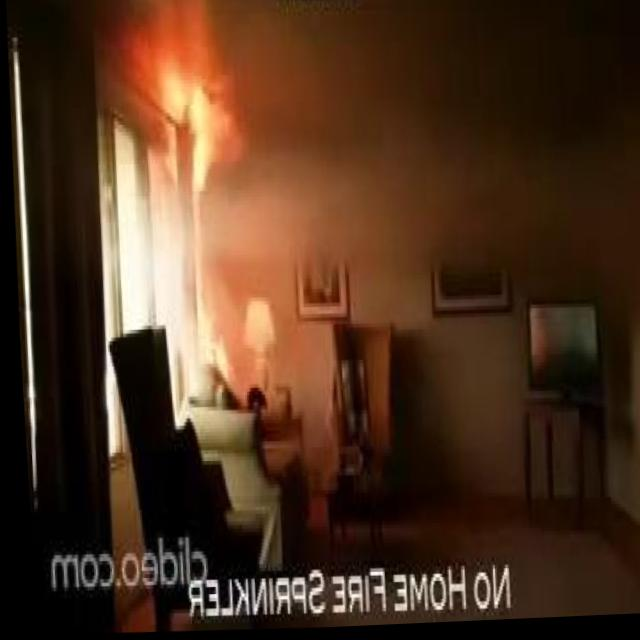fire: (183, 69, 227, 201), (160, 61, 228, 130)
